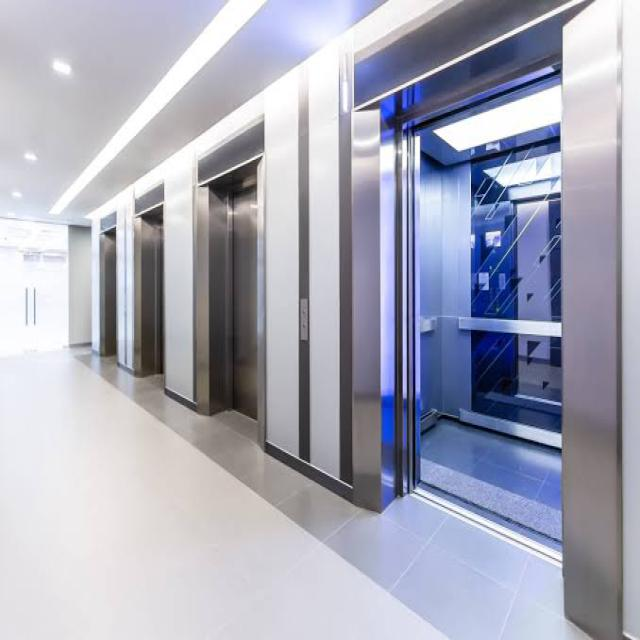elevator: (96, 0, 631, 638)
